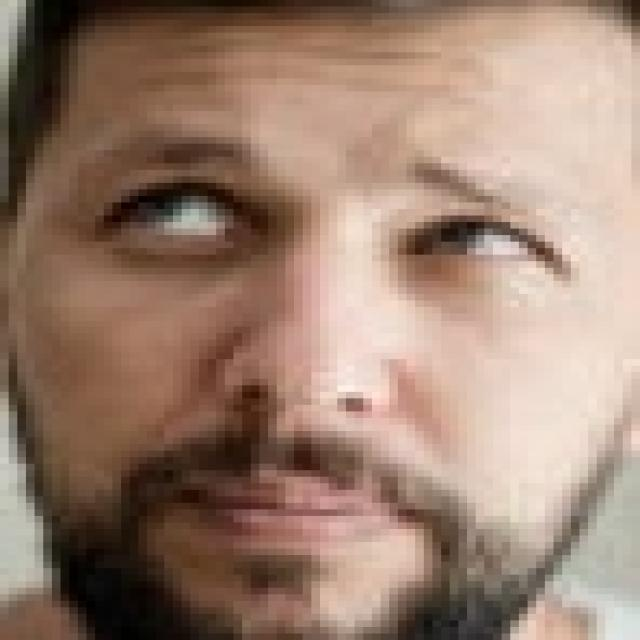Anxiety: (2, 0, 631, 633)
